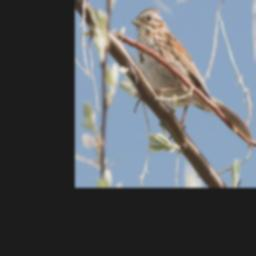Sparrow: (130, 8, 254, 144)
